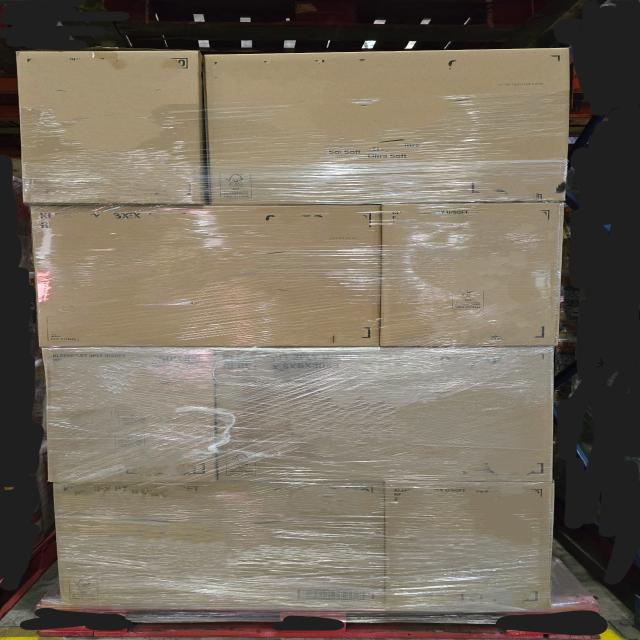cardboxes: (207, 50, 570, 202), (26, 204, 387, 349), (221, 348, 556, 480), (51, 482, 385, 609), (15, 49, 212, 207), (386, 205, 563, 347), (35, 350, 221, 480), (385, 484, 553, 609)
